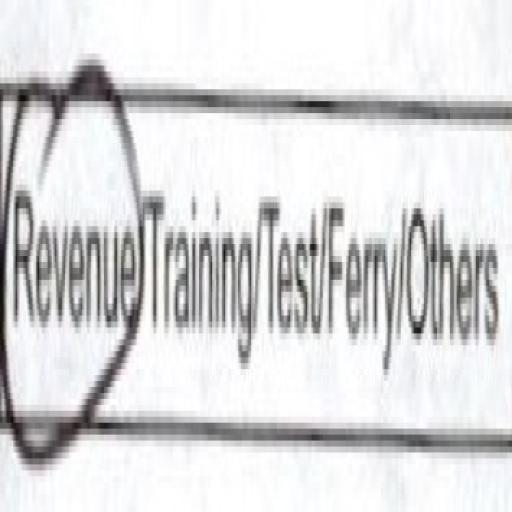check: (0, 34, 142, 489)
